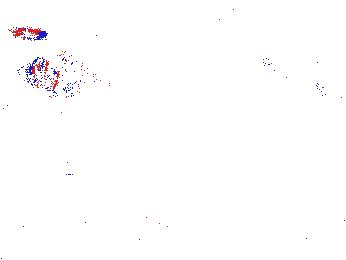X-ray fish: (13, 52, 108, 95)
red belly glassfish: (1, 18, 50, 43)
redtail glassfish: (258, 54, 326, 99), (200, 4, 275, 41), (297, 21, 346, 47)
